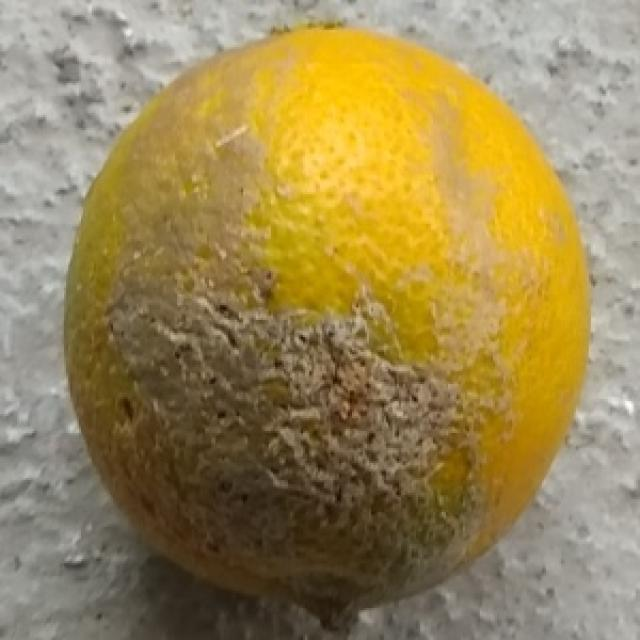overripe: (57, 16, 599, 640)
